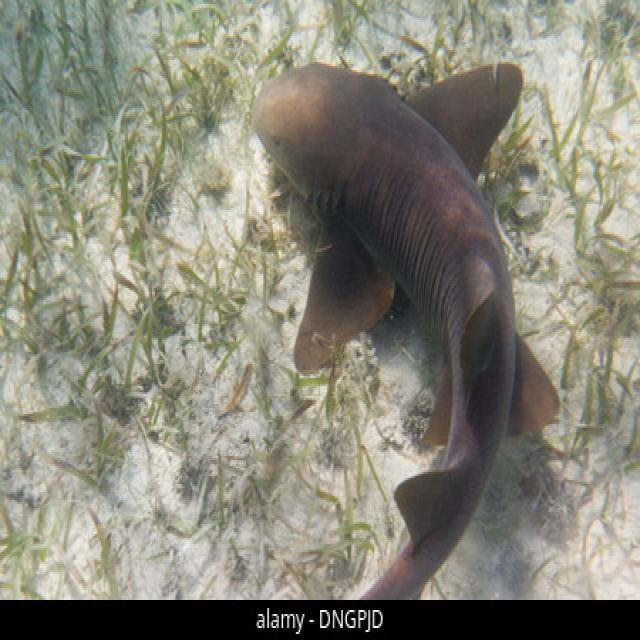Shark: (233, 18, 575, 600)
